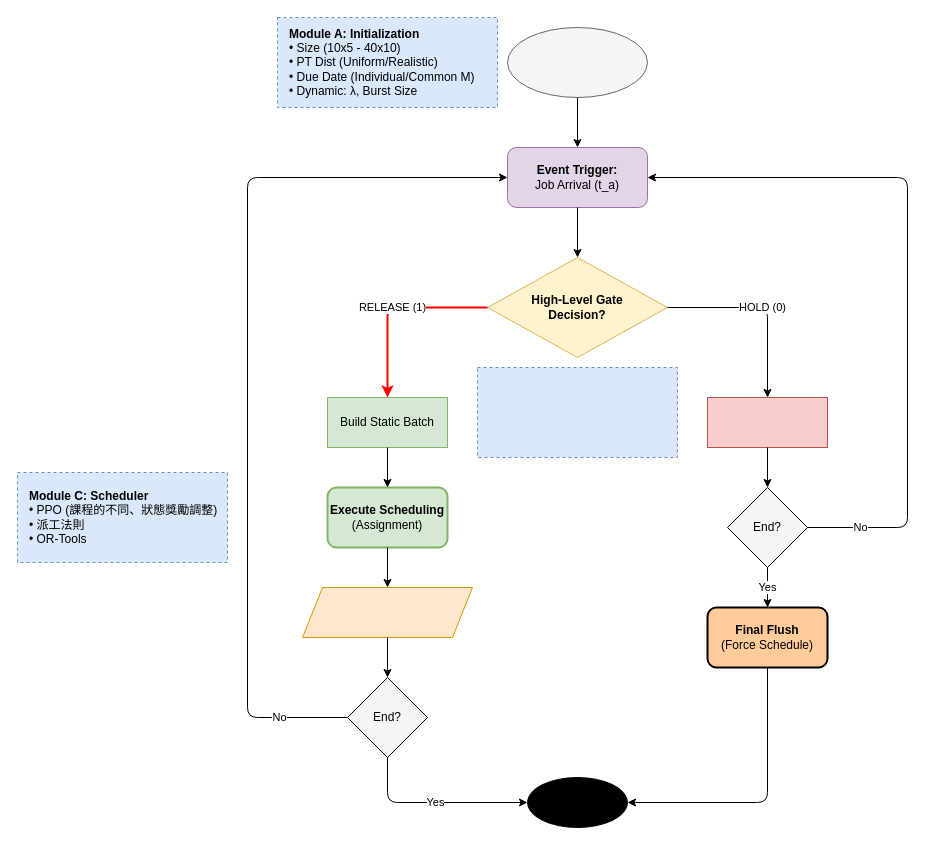
This 933x845 diagram has some shape labels left out. Here are the shapes that lost their labels. From the top down, the centre of each, then its label:
At [577,62]: "START Initial Schedule (t=0)".
At [577,412]: "Module B: Gate Strategy • RL: PPO、DDQN • Rules: Always, interval".
At [767,422]: "Tick Time (Env Step)".
At [387,612]: "Time/State Coupling Sync t_now / MFT".
At [577,802]: "END".
